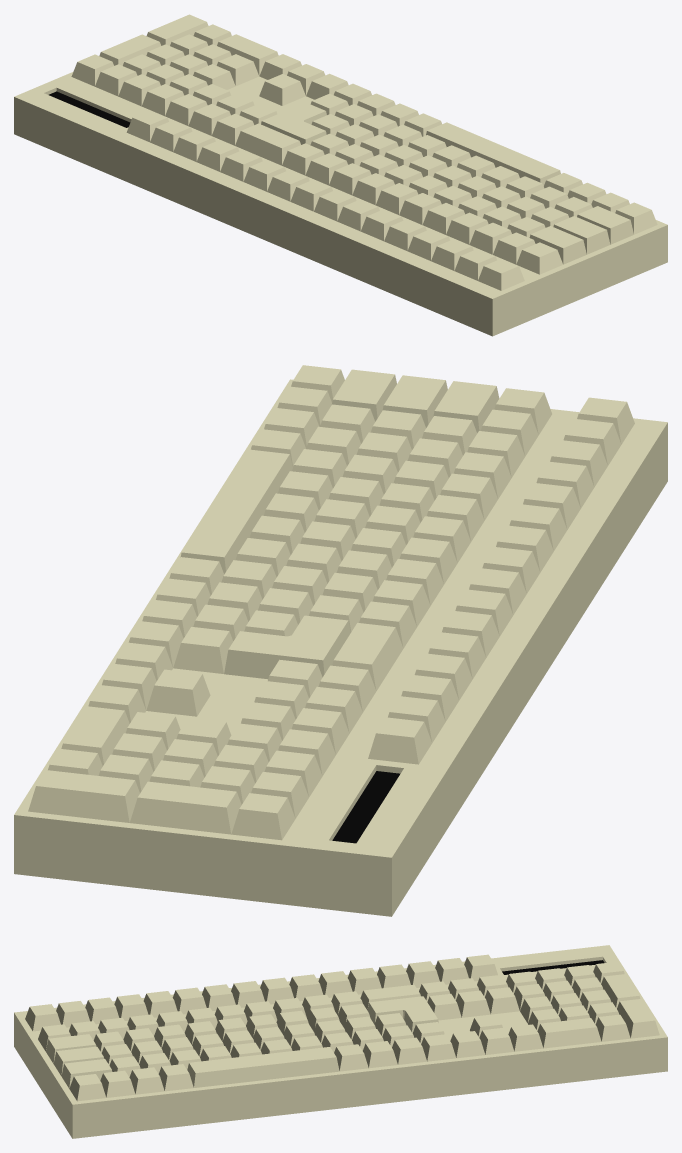
File: Keyboard.fbx
3 renders of one model, top to bottom at view 1: azimuth 30°, elevation 25°; view 2: azimuth 150°, elevation 25°; view 3: azimuth 270°, elevation 25°, orthographic. The views are drawn at different scales.
Parts seen in each view (by area): view 1: Keyboard; view 2: Keyboard; view 3: Keyboard.
Part boxes in pixels (left/top/right/bottom): Keyboard: left=14, top=14, right=667, bottom=336; Keyboard: left=14, top=365, right=667, bottom=916; Keyboard: left=14, top=945, right=667, bottom=1138.
Bounding box in the file's own units: 50.16 × 7 × 86.8.
